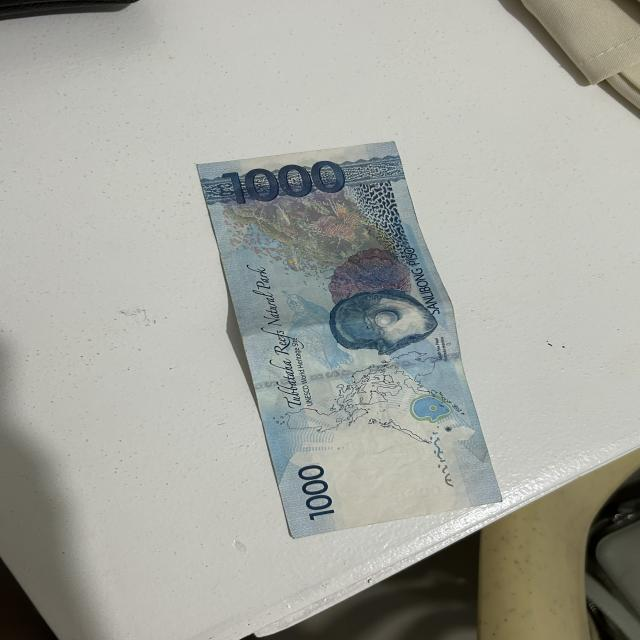1000_pearl: (332, 291, 436, 357)
1000_pearl_watermark: (411, 396, 450, 422)
